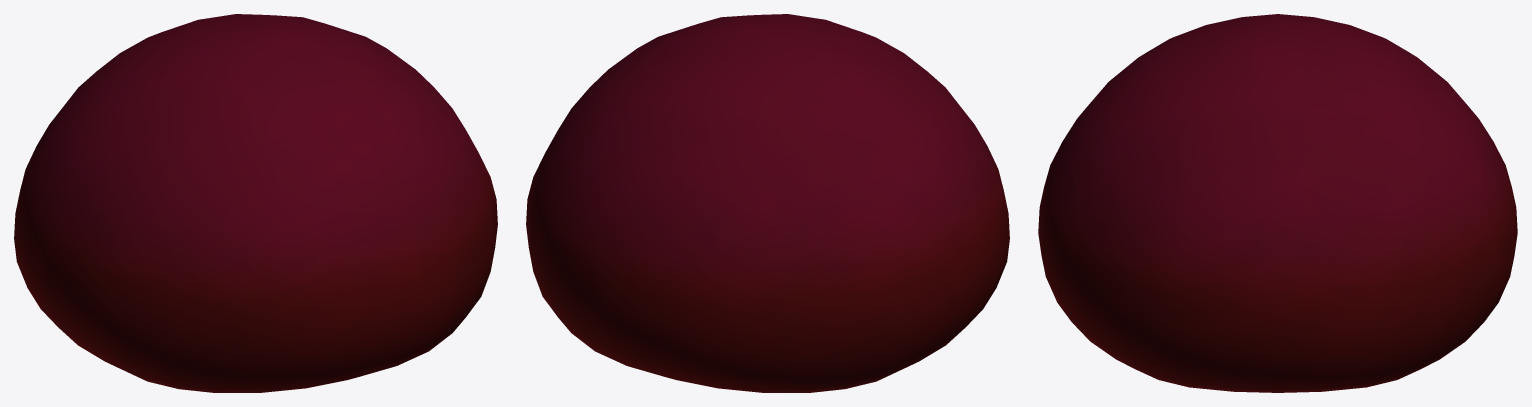
The model's file is yakushimamonster001_red_1df4c8.glb.
3 views of the same model, side by side, from view 1: azimuth 30°, elevation 25°; view 2: azimuth 150°, elevation 25°; view 3: azimuth 270°, elevation 25° (orthographic).
Bounding box in the file's own units: 0.8271 × 0.5466 × 0.827.
Materials: 2 (2 with a texture image).
